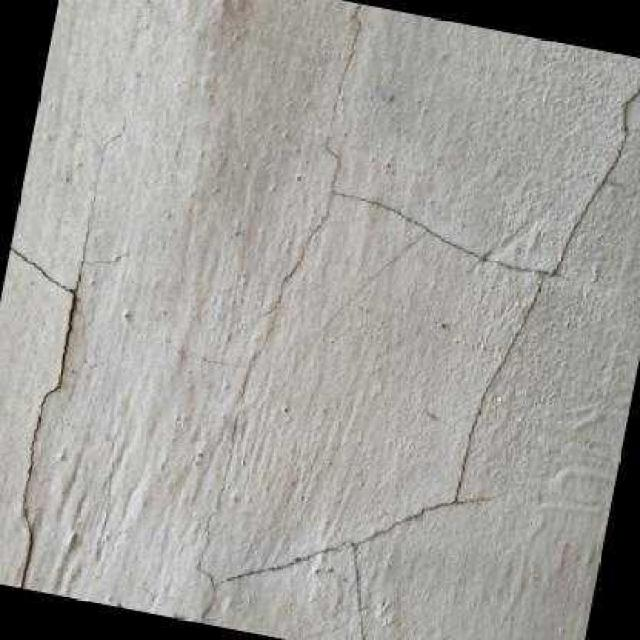D00: (453, 67, 640, 475), (189, 485, 467, 640), (0, 236, 76, 587)
